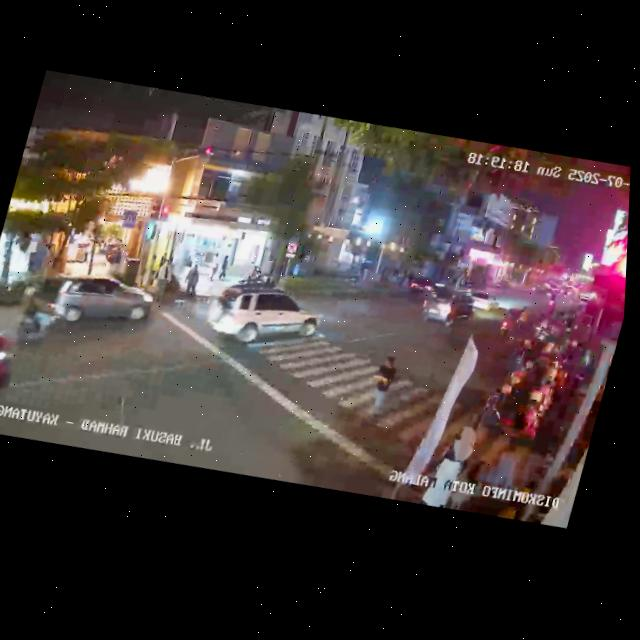car: (198, 270, 330, 367), (25, 256, 159, 347), (415, 284, 478, 338), (0, 318, 24, 405), (403, 273, 444, 307), (470, 289, 502, 317), (577, 288, 597, 308)
motorcycle: (10, 283, 73, 357), (494, 304, 519, 343), (513, 303, 533, 333), (546, 292, 557, 309), (561, 289, 569, 300)
person: (417, 420, 480, 513), (361, 352, 401, 428), (156, 256, 177, 285), (186, 264, 204, 297), (181, 266, 197, 296), (206, 252, 221, 283), (217, 253, 232, 283), (0, 250, 4, 278)
